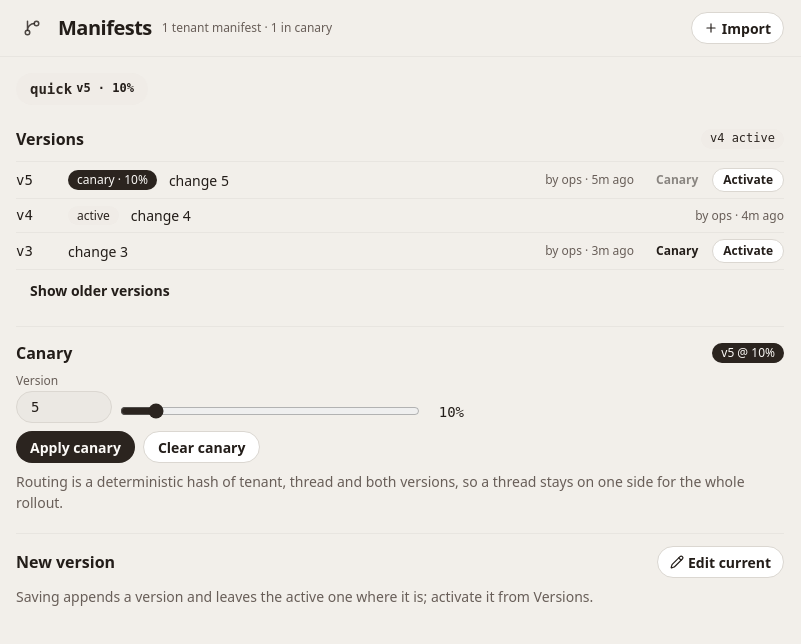
it: the version log › says a canary number past the newest version does not exist
Expected: the list named "Versions of quick" is shown, [16,161,784,270]
Replace the text in the field labelled "Version" with "9" at (64, 407), box [16,391,112,423]
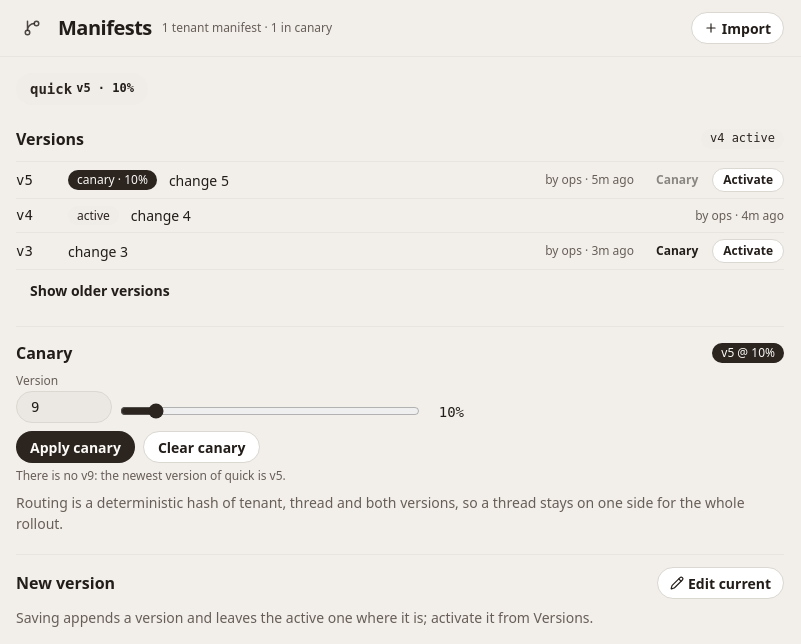
Expected: the text "There is no v9: the newest version of quick is v5." is shown, [16,467,286,484]
